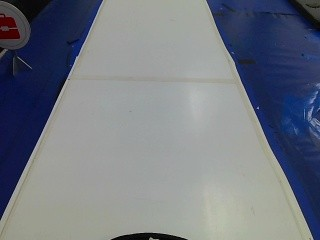company: (0, 1, 28, 50)
